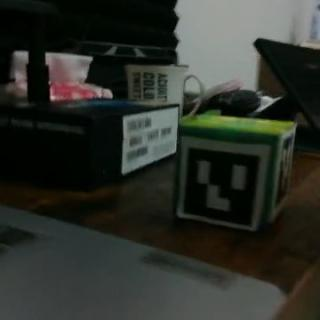armor: (177, 136, 265, 230)
robot: (172, 112, 299, 233)
